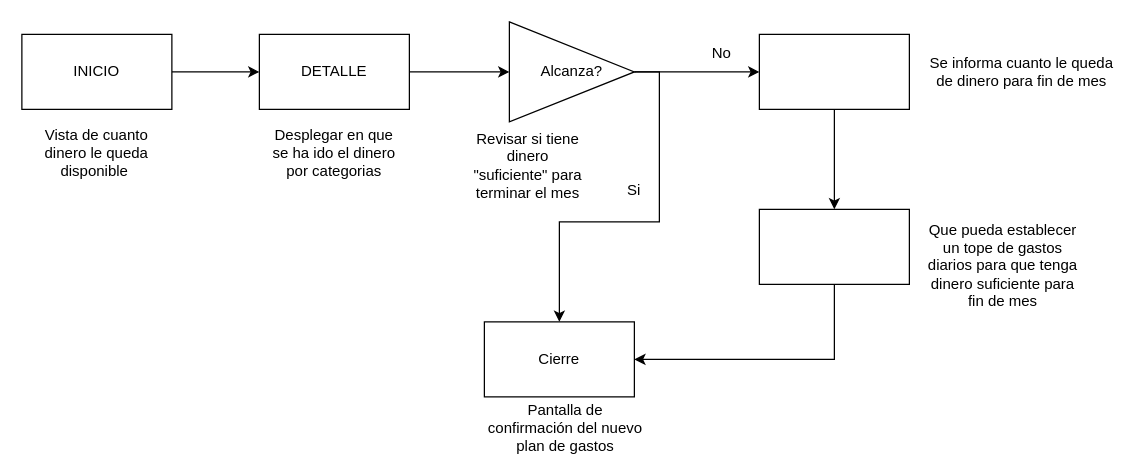
This 1144x476 diagram has some shape labels left out. Here are the shapes that lost their labels. From the top down, the centre of each, then its label:
(833,71): Alerta
(833,246): Ajuste
